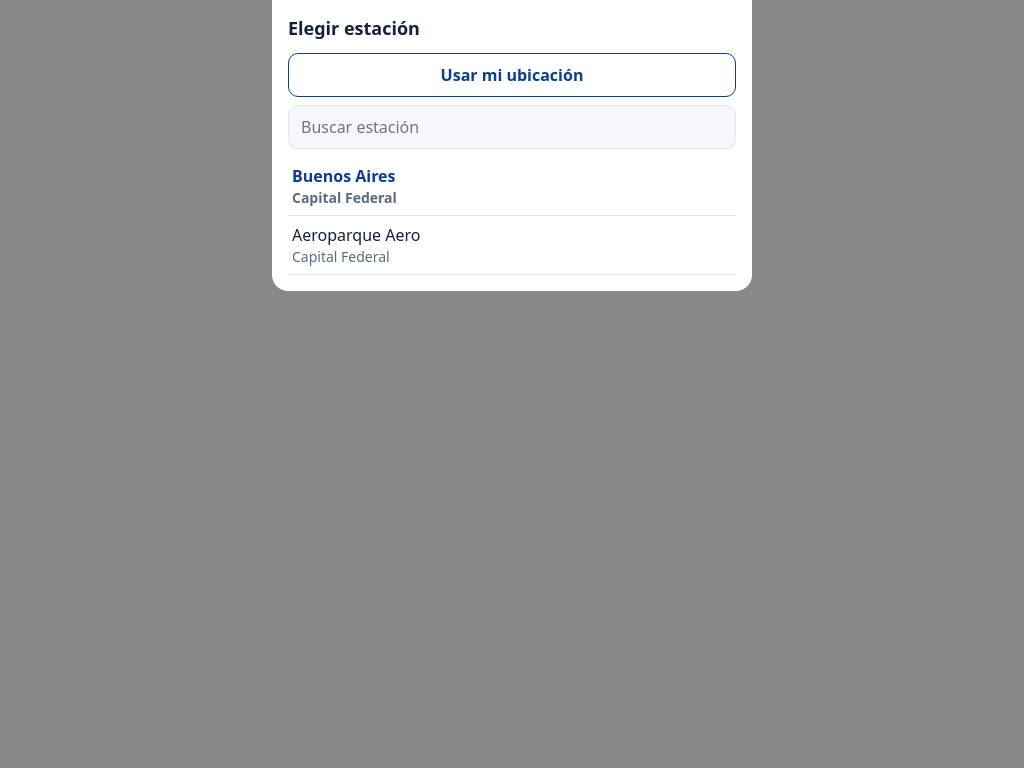
StationPicker: usar mi ubicación › timeout: mensaje de reintento
Step 1. Click the button "Usar mi ubicación" → {"x": 512, "y": 75}, box [288,53,736,97]
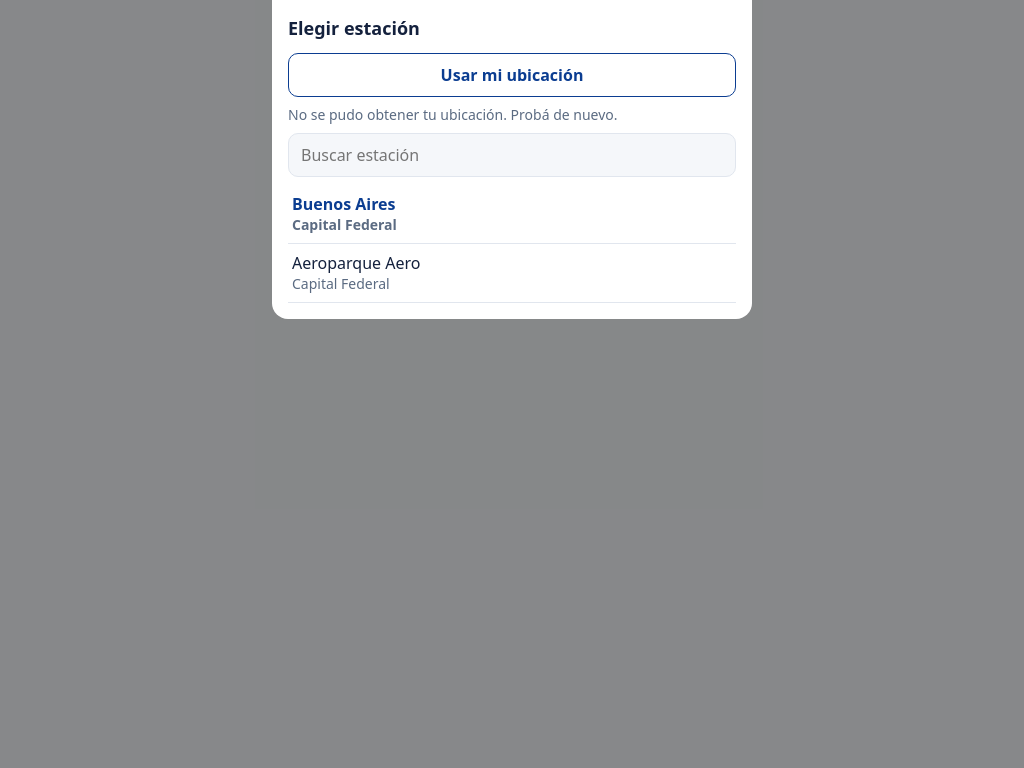
Result: the message reads "No se pudo obtener tu ubicación. Probá de nuevo." at [288,105,618,124]
